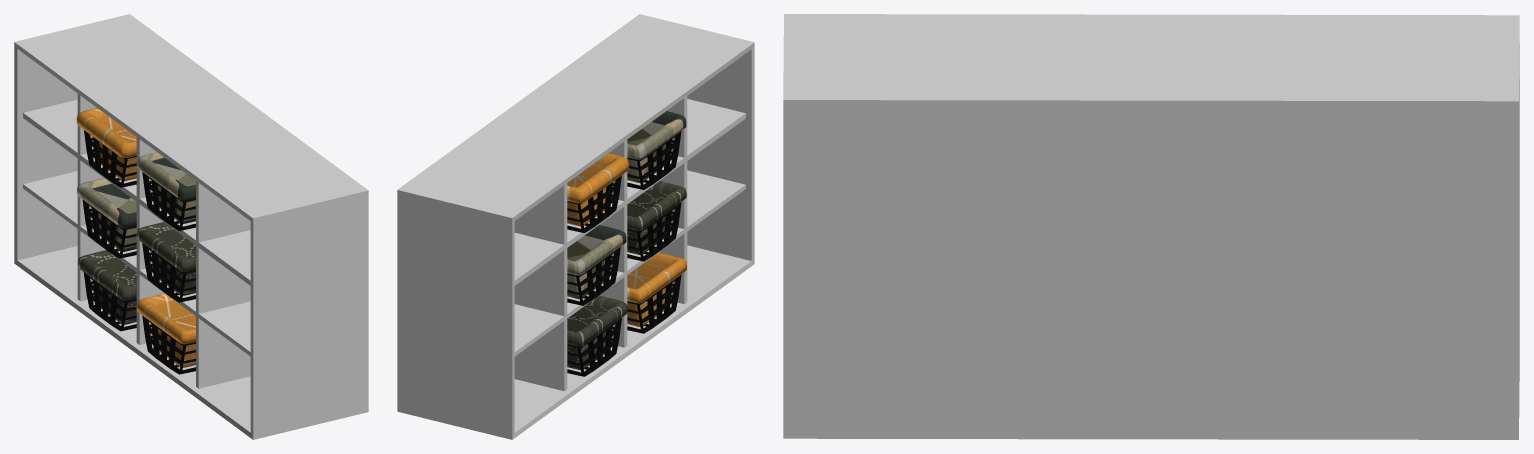
File: shelf.fbx
3 renders of one model, left to right at view 1: azimuth 30°, elevation 25°; view 2: azimuth 150°, elevation 25°; view 3: azimuth 270°, elevation 25°, orthographic. The views are drawn at different scales.
Visible parts, largest first — view 1: Cube.028, Cube.038, Cube.030, Cube.036, Cube.034, Cube.032, Cube.026, Cube.033, Cube.029, Cube.020, Cube.035, Cube.037 (+1 smaller); view 2: Cube.028, Cube.036, Cube.038, Cube.030, Cube.034, Cube.032, Cube.026, Cube.033, Cube.035, Cube.020, Cube.037, Cube.029 (+1 smaller); view 3: Cube.028.
Boxes of the visible parts, box(x1,y1,x2,y2) form: Cube.028: box(14, 14, 368, 439); Cube.038: box(136, 293, 195, 367); Cube.030: box(76, 178, 136, 251); Cube.036: box(78, 250, 136, 324); Cube.034: box(137, 222, 195, 295); Cube.032: box(76, 108, 136, 180); Cube.026: box(137, 152, 195, 223); Cube.033: box(142, 243, 195, 302); Cube.029: box(82, 199, 136, 258); Cube.020: box(142, 172, 195, 230); Cube.035: box(83, 272, 136, 331); Cube.037: box(142, 315, 195, 374); Cube.028: box(397, 14, 754, 439); Cube.036: box(567, 295, 627, 370); Cube.038: box(627, 252, 686, 326); Cube.030: box(567, 225, 626, 299); Cube.034: box(627, 181, 686, 254); Cube.032: box(567, 153, 629, 226); Cube.026: box(627, 111, 686, 182); Cube.033: box(627, 202, 681, 261); Cube.035: box(567, 318, 621, 376); Cube.020: box(627, 131, 681, 189); Cube.037: box(627, 274, 681, 333); Cube.029: box(567, 246, 620, 305); Cube.028: box(783, 14, 1519, 439).
Size of the model in its own units: 127 by 223 by 440.
